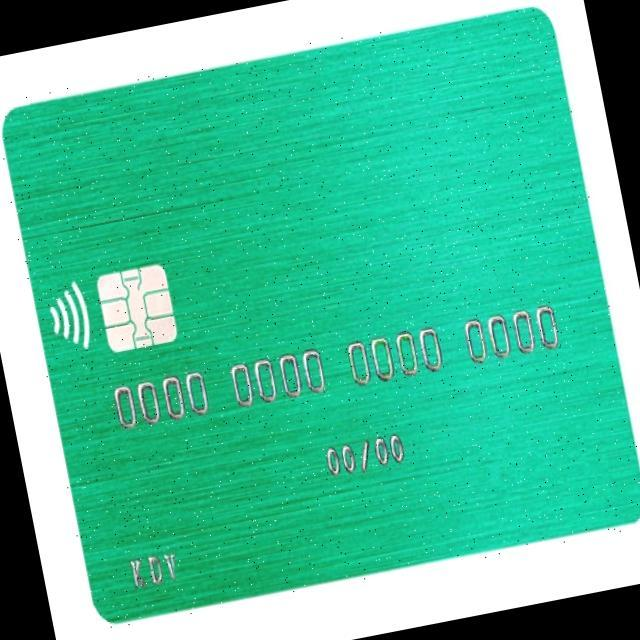payment_card: (0, 1, 639, 635)
